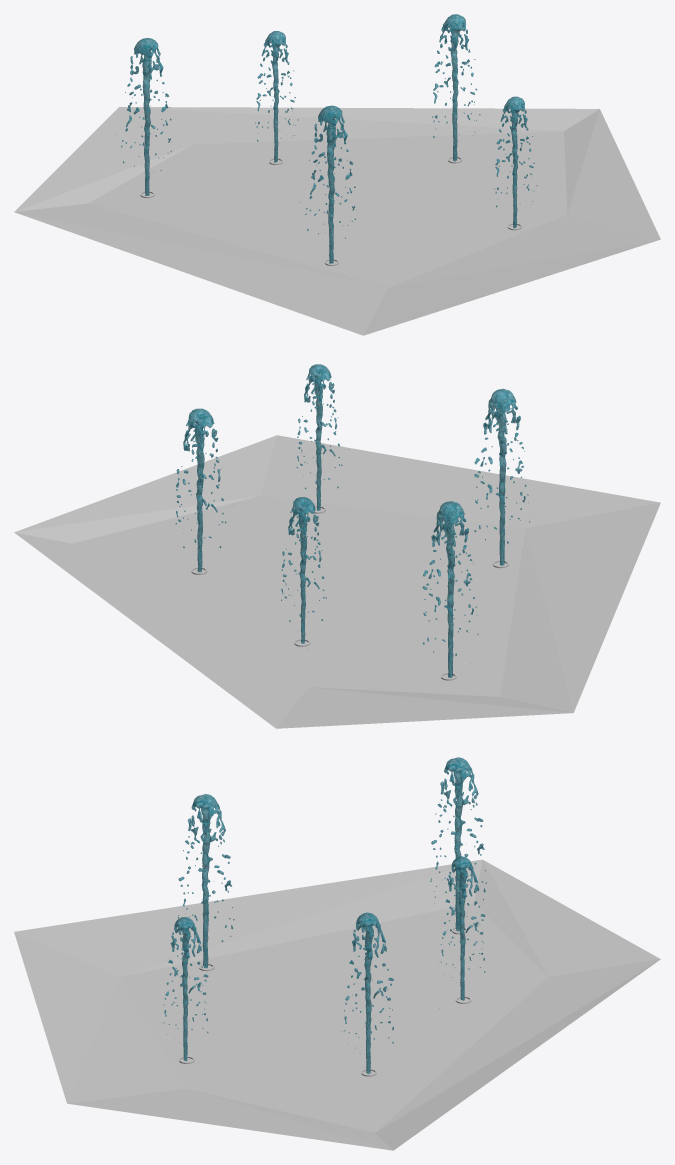
Rendered from Fountain5.glb.
The picture shows the model from 3 angles, top to bottom: view 1: azimuth 30°, elevation 25°; view 2: azimuth 150°, elevation 25°; view 3: azimuth 270°, elevation 25°; orthographic projection. The views are drawn at different scales.
Visible parts, largest first — view 1: empty_66, empty_68, empty_70, empty_67, empty_69, empty_71; view 2: empty_66, empty_68, empty_70, empty_67, empty_71, empty_69; view 3: empty_66, empty_68, empty_70, empty_67, empty_71, empty_69.
Part boxes in pixels (left/top/right/bottom): empty_66: left=14, top=107, right=660, bottom=335; empty_68: left=299, top=105, right=356, bottom=263; empty_70: left=115, top=38, right=172, bottom=195; empty_67: left=432, top=14, right=480, bottom=161; empty_69: left=255, top=31, right=298, bottom=162; empty_71: left=494, top=96, right=537, bottom=228; empty_66: left=14, top=435, right=660, bottom=728; empty_68: left=474, top=388, right=529, bottom=565; empty_70: left=422, top=501, right=478, bottom=677; empty_67: left=175, top=408, right=233, bottom=572; empty_71: left=296, top=364, right=348, bottom=510; empty_69: left=281, top=497, right=333, bottom=643; empty_66: left=14, top=859, right=660, bottom=1150; empty_68: left=178, top=794, right=234, bottom=968; empty_70: left=430, top=757, right=486, bottom=931; empty_67: left=342, top=912, right=393, bottom=1073; empty_71: left=162, top=917, right=208, bottom=1060; empty_69: left=439, top=856, right=485, bottom=1008.
Size of the model in its own units: 5.28 by 1.47 by 4.96.
Materials: 2 (1 with a texture image).
